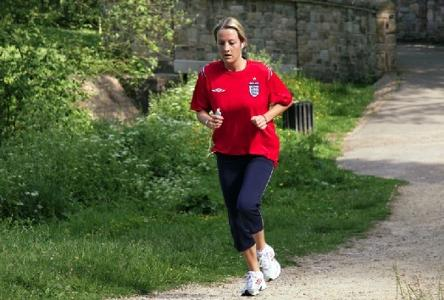person: (192, 18, 294, 297)
